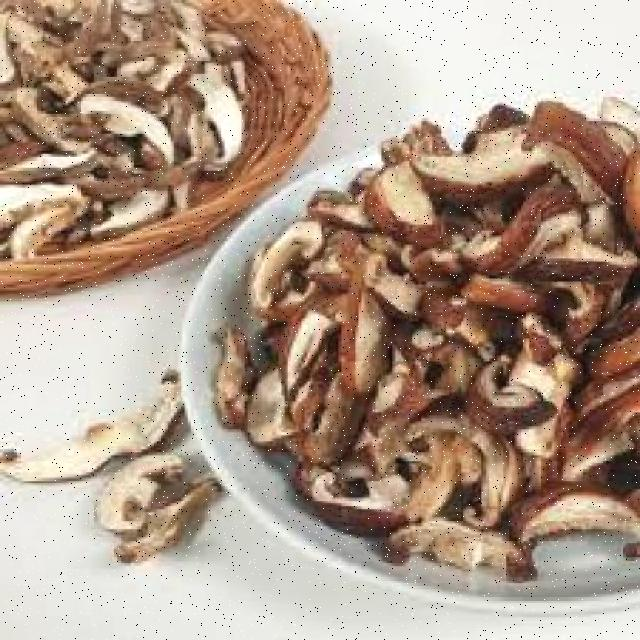Mushroom: (3, 318, 191, 498), (385, 78, 567, 202), (338, 138, 438, 256)
